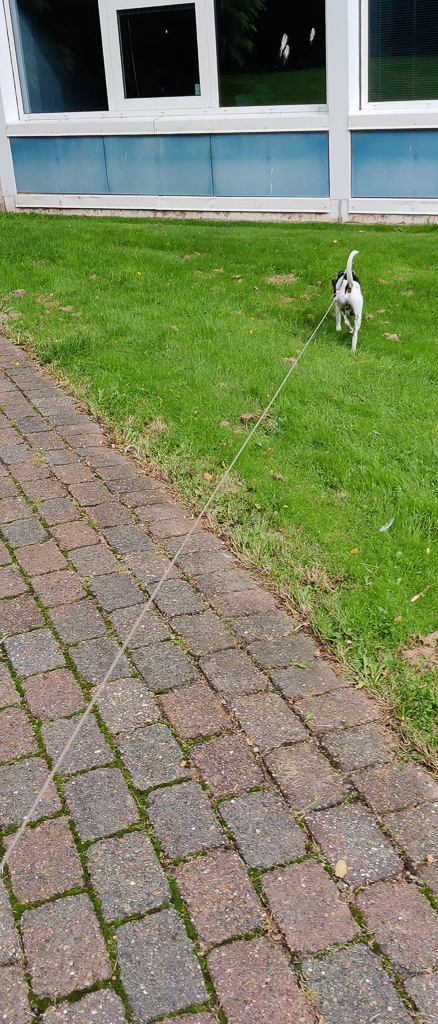Dog: (321, 242, 373, 358)
